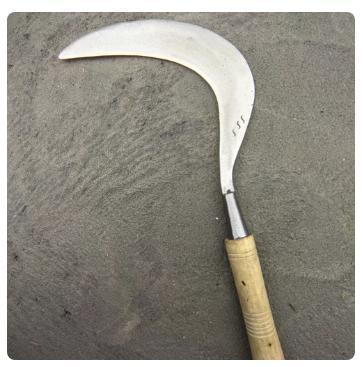foice: (60, 20, 283, 359)
